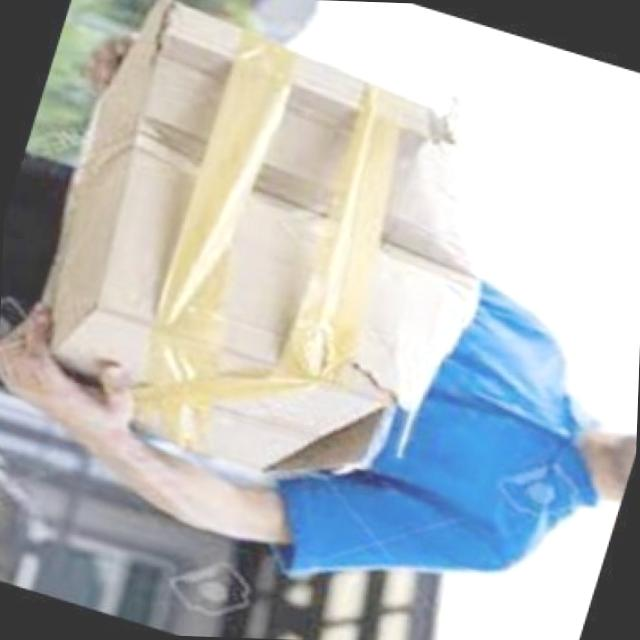box: (0, 0, 545, 524)
